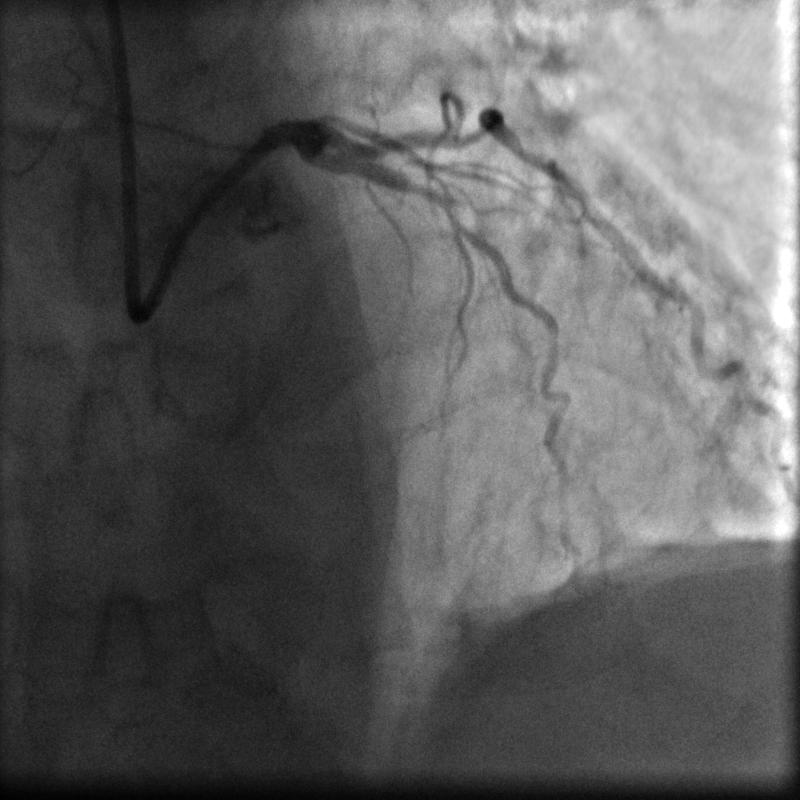Stenosis: (398, 165, 459, 224)
